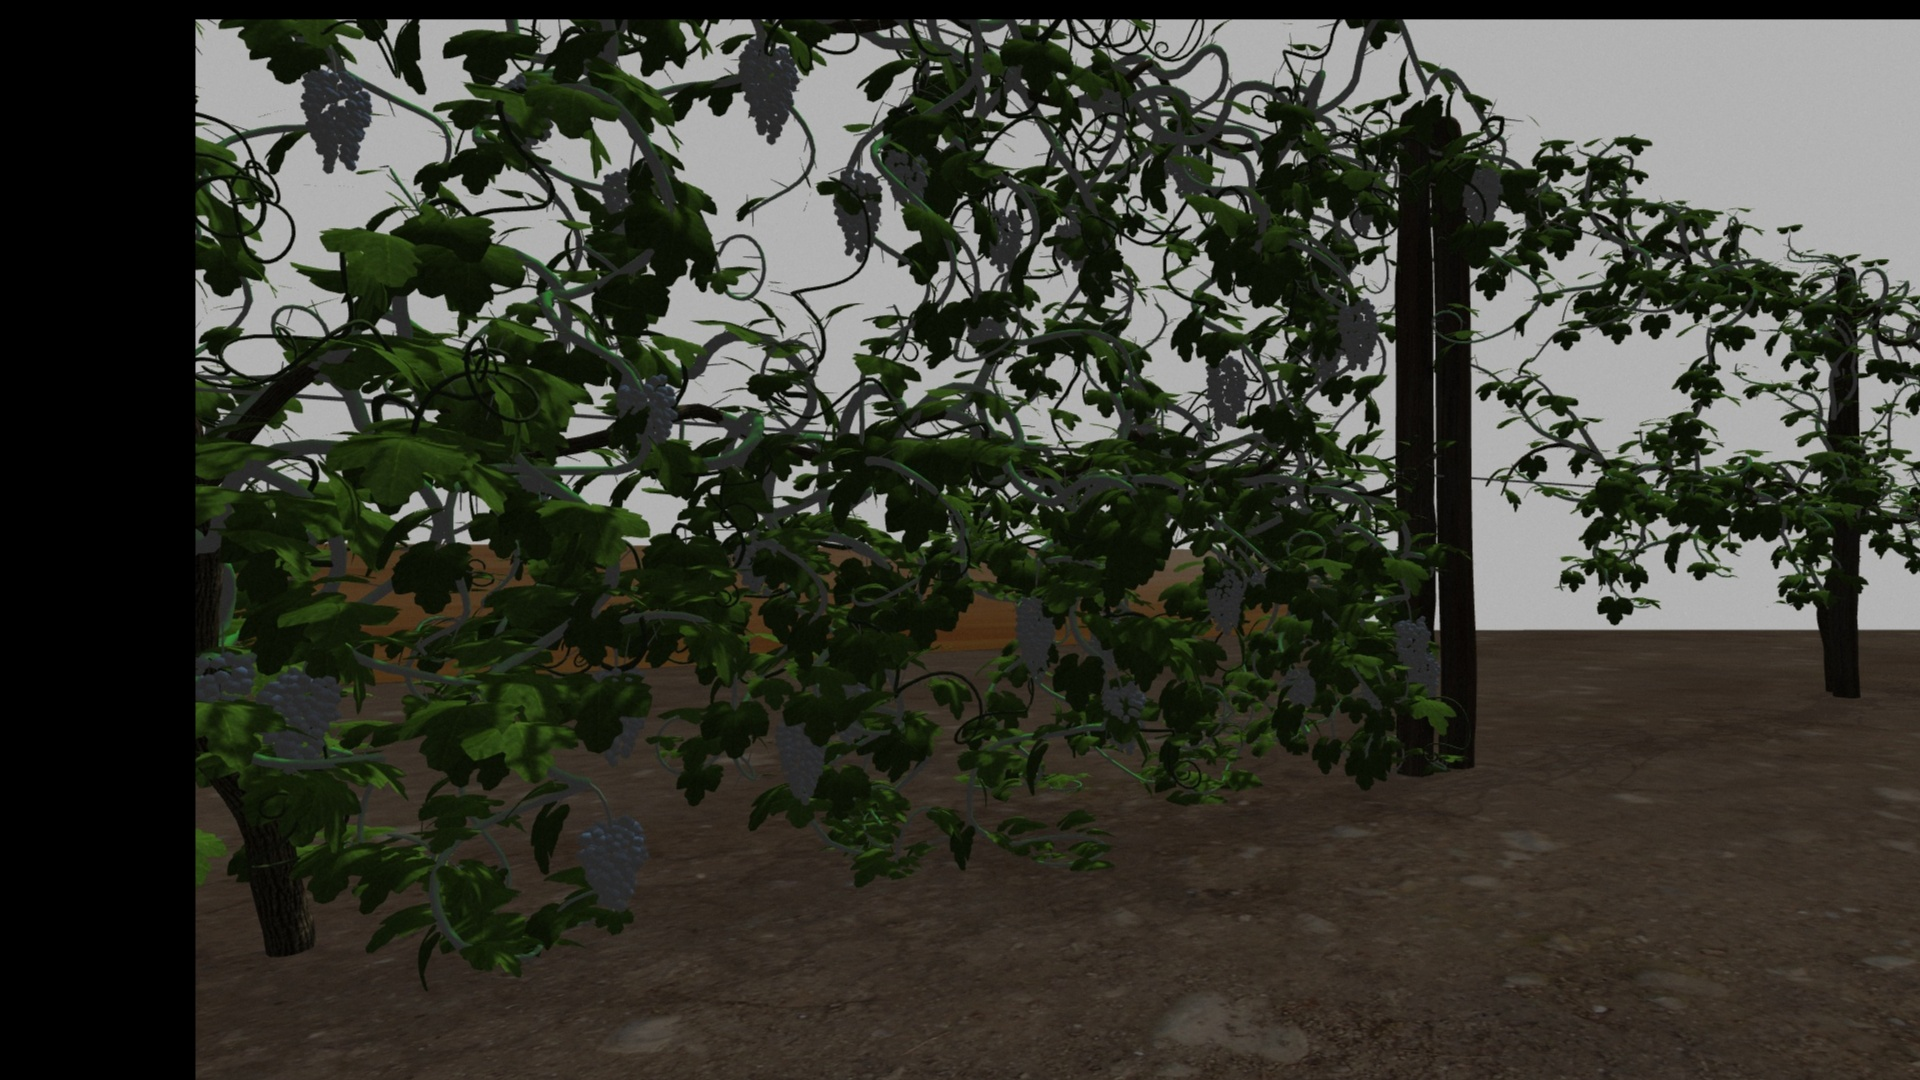grape: (255, 663, 342, 765), (301, 70, 373, 174), (574, 815, 647, 913), (735, 40, 800, 144), (771, 712, 833, 807), (615, 375, 676, 458), (829, 171, 885, 262), (1011, 597, 1059, 676), (1205, 356, 1247, 429), (1338, 297, 1379, 369), (200, 649, 255, 698), (982, 208, 1023, 272), (1207, 570, 1245, 636), (1461, 166, 1502, 225), (885, 148, 927, 204), (1393, 618, 1429, 670), (1101, 679, 1145, 720), (1406, 657, 1441, 699), (1282, 666, 1315, 709)
